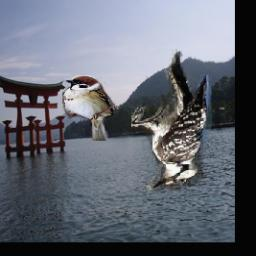Sparrow: (61, 76, 116, 142)
Woodpecker: (130, 50, 214, 193)
